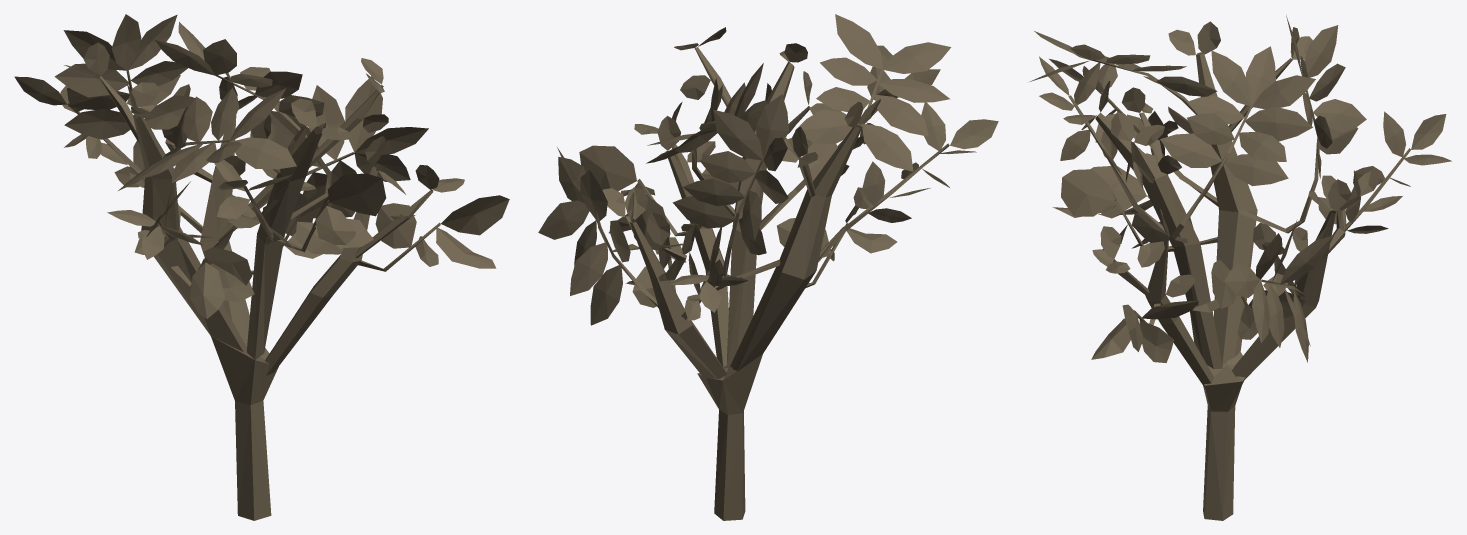
Rendered from Cherry_6_1.fbx.
3 renders of one model, left to right at view 1: azimuth 30°, elevation 25°; view 2: azimuth 150°, elevation 25°; view 3: azimuth 270°, elevation 25°, orthographic. The views are drawn at different scales.
Parts seen in each view (by area): view 1: Cherry_6_1; view 2: Cherry_6_1; view 3: Cherry_6_1.
Boxes of the visible parts, x1,y1,x2,y2 form: Cherry_6_1: (14, 14, 509, 520); Cherry_6_1: (538, 14, 998, 520); Cherry_6_1: (1029, 15, 1451, 520).
Size of the model in its own units: 323 by 371 by 311.
